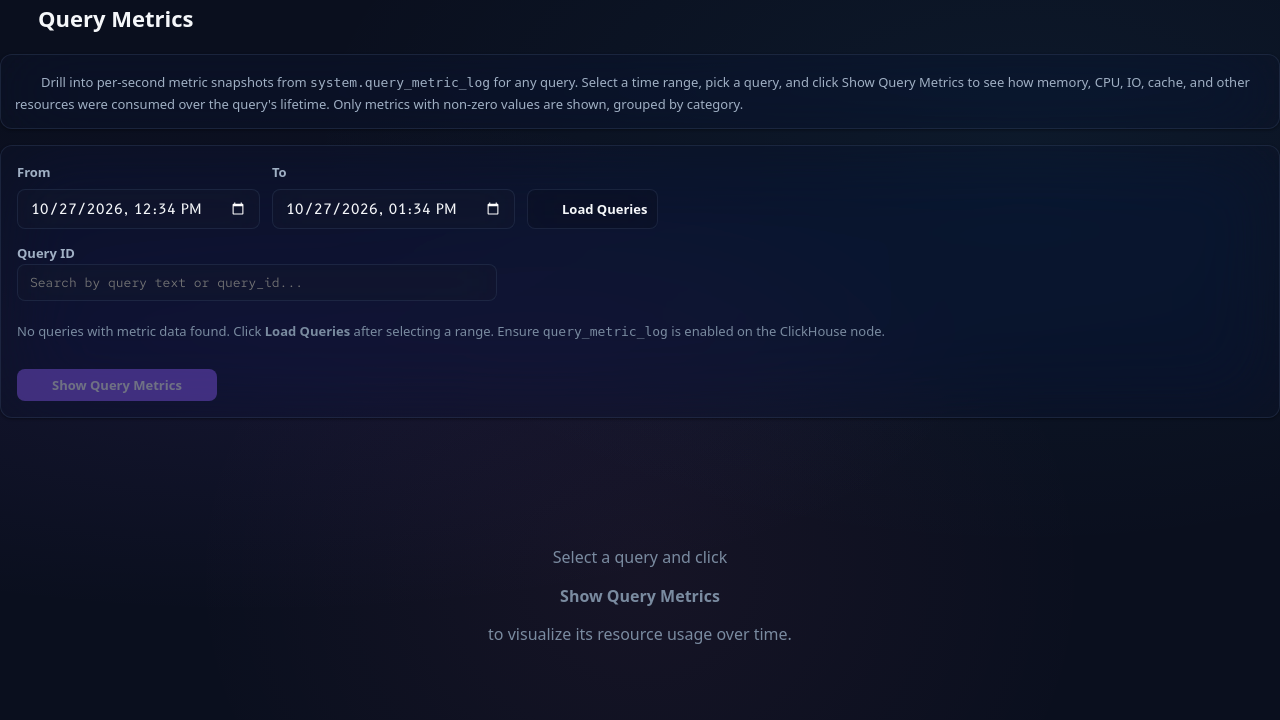
Test: QueryMetrics Component › esc closes popup
Click the button "Load Queries": (593, 209) [527,189,658,229]
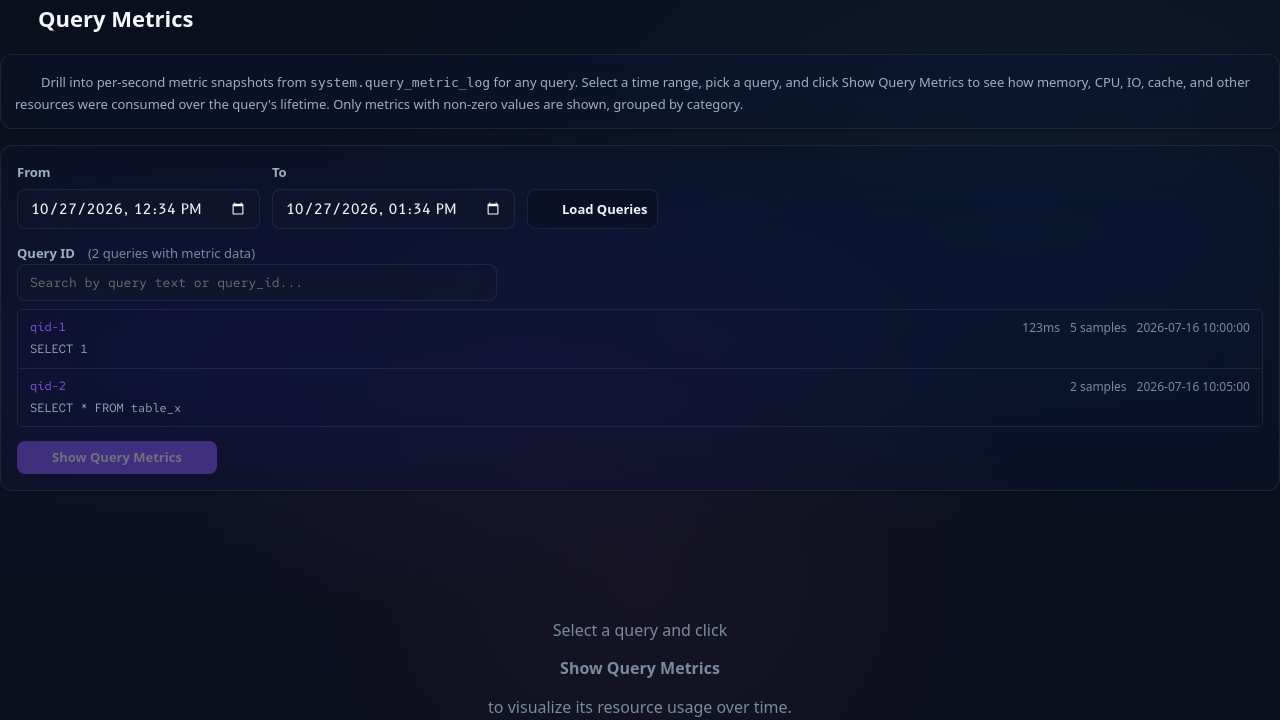
Click the text "qid-1": (48, 328) [30,318,66,338]
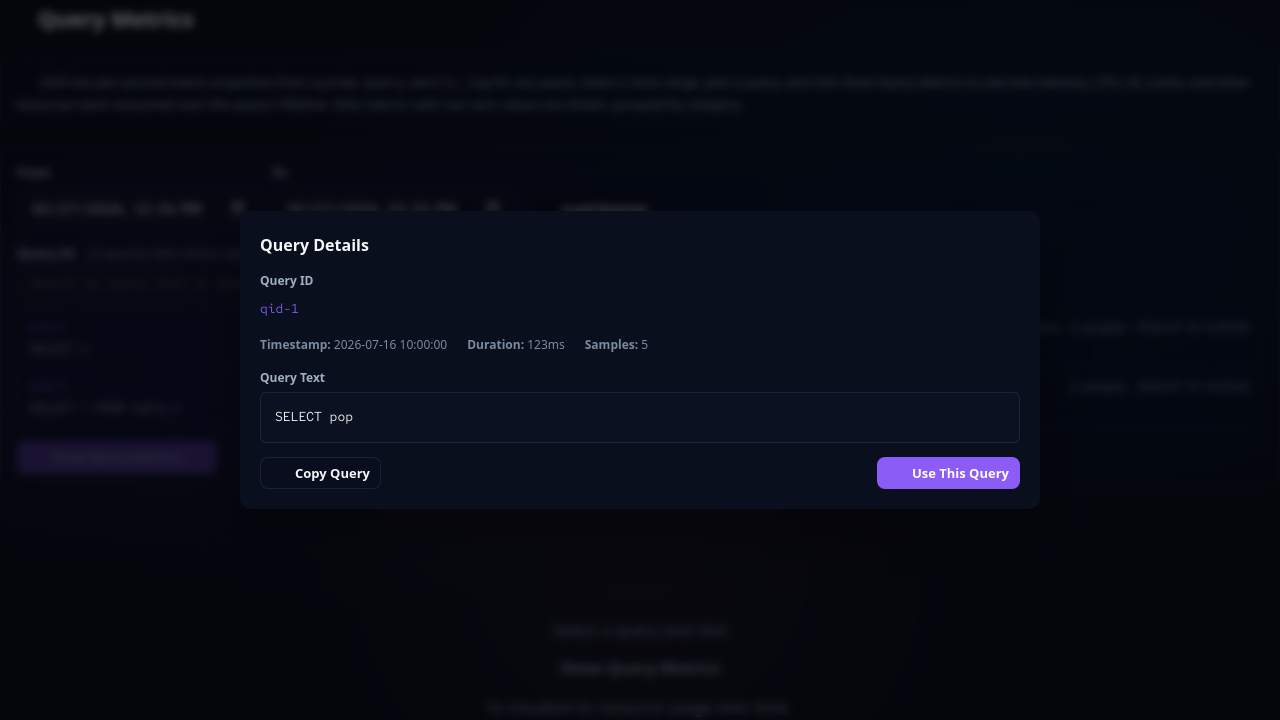
Expected: the text "Query Details" is shown, [260,232,369,258]
Press Escape
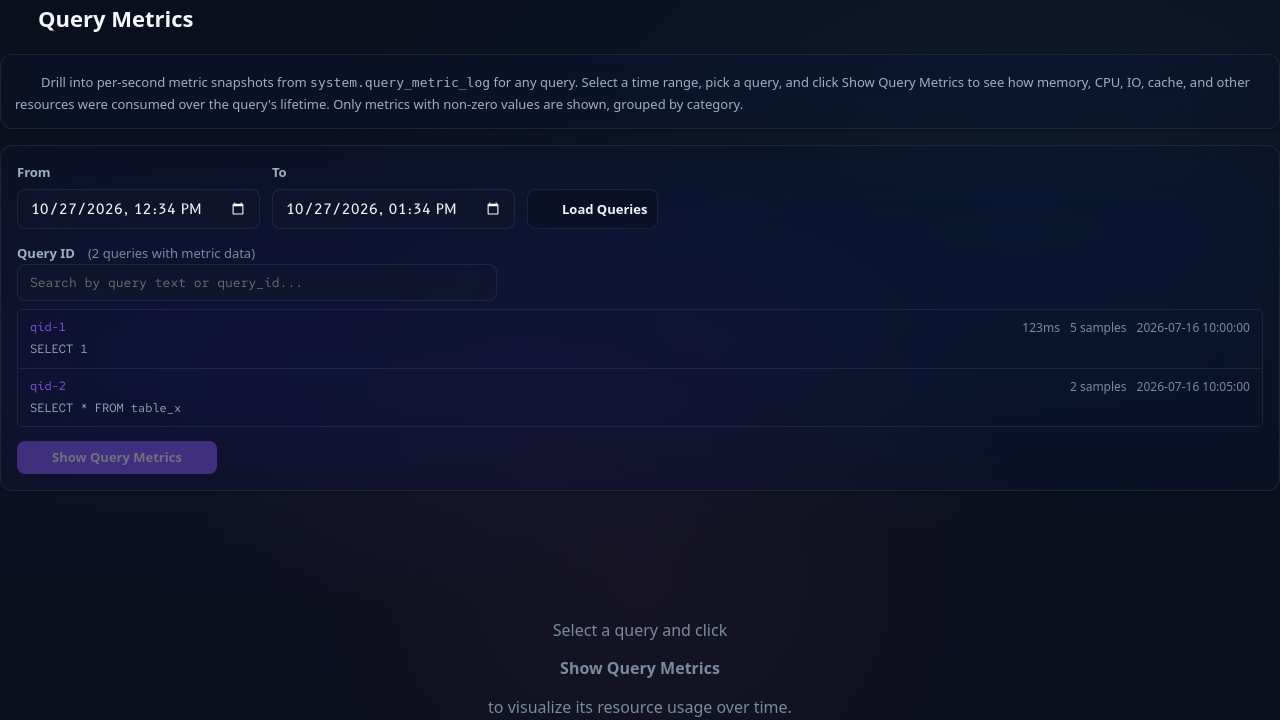
Expected: the text "Query Details" is gone
